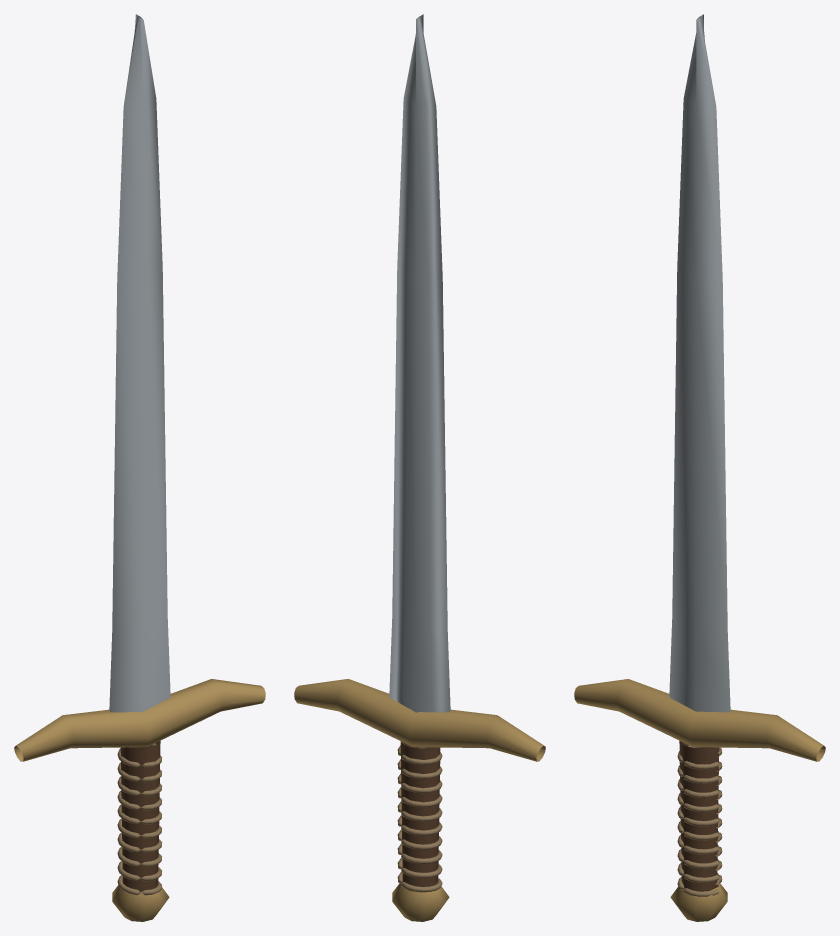
The model's file is SmithBlade.glb.
The picture shows the model from 3 angles, left to right: view 1: azimuth 30°, elevation 25°; view 2: azimuth 150°, elevation 25°; view 3: azimuth 330°, elevation 25°; orthographic projection.
Visible parts, largest first — view 1: Sword; view 2: Sword; view 3: Sword.
Part boxes in pixels (x1,y1,x2,y2): Sword: [14, 14, 265, 921]; Sword: [294, 14, 545, 921]; Sword: [574, 14, 825, 921].
Size of the model in its own units: 0.3444 by 1.2 by 0.0698.
